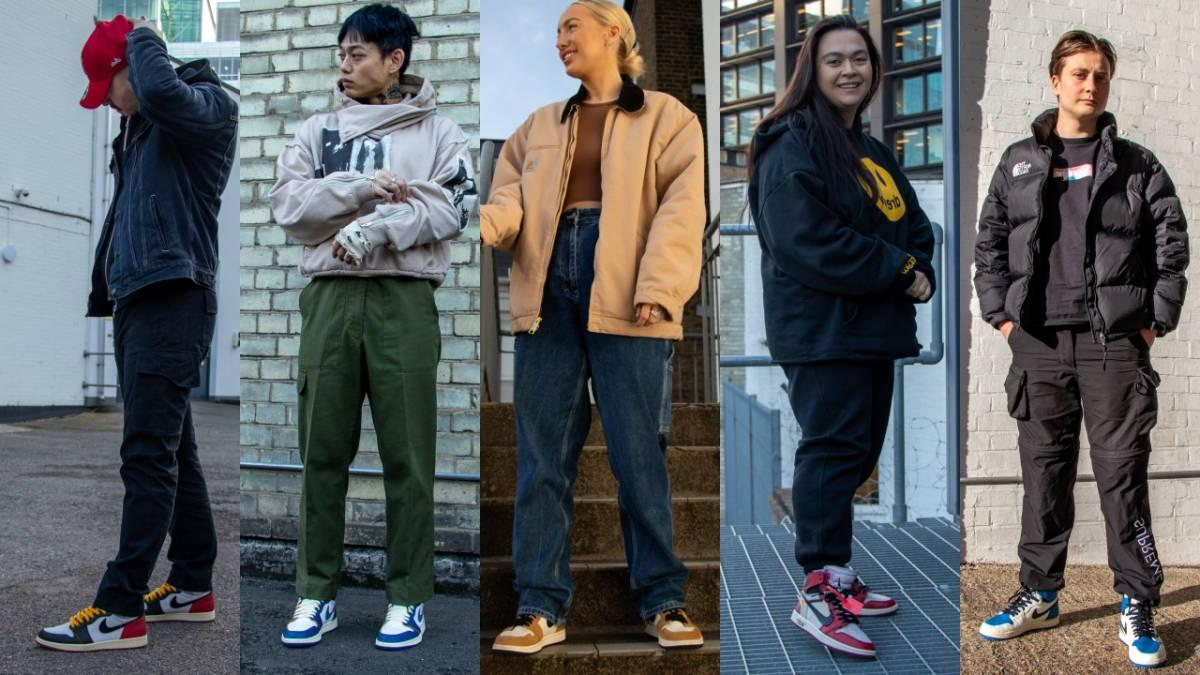coat: (973, 105, 1191, 340)
jacket: (480, 78, 707, 338), (79, 28, 241, 319), (266, 76, 477, 283)
sweater: (743, 105, 941, 366), (1029, 132, 1110, 327)
trousers: (512, 210, 688, 614), (293, 269, 444, 600), (1001, 327, 1168, 603), (86, 281, 220, 613), (776, 352, 902, 578)
vest: (559, 97, 619, 215)
